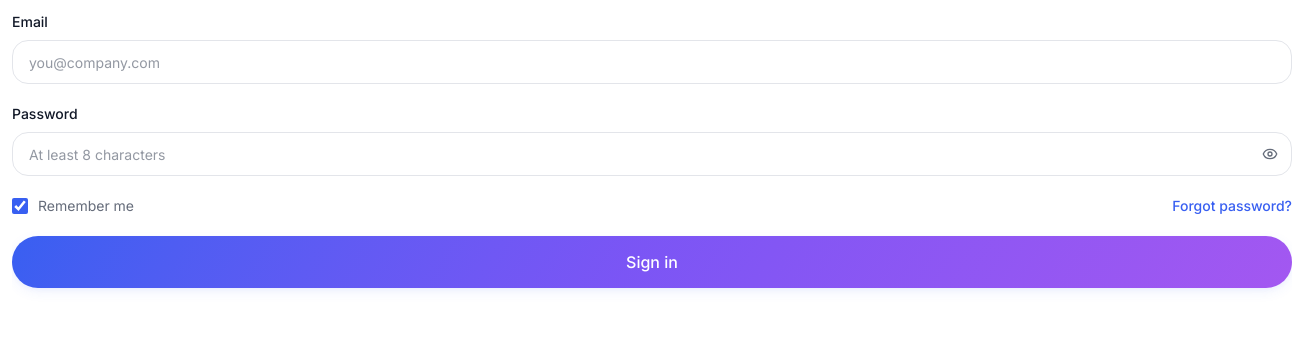
Test case: LoginForm › rejects a password below the minimum length
Type "owner@aliran.id" into the field labelled "Email". click: [652, 62]
box: [12,40,1292,84]
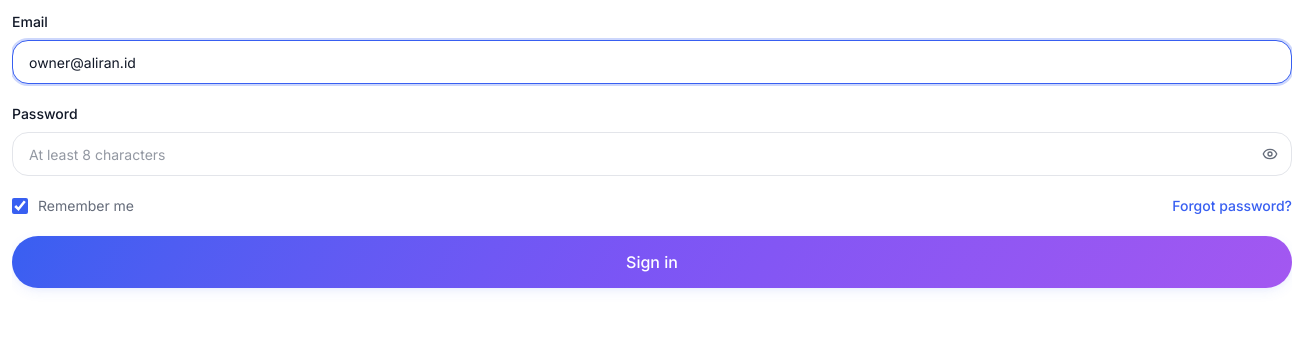
Type "short" into the password field labelled "Password". click: [652, 154]
box: [12,132,1292,176]
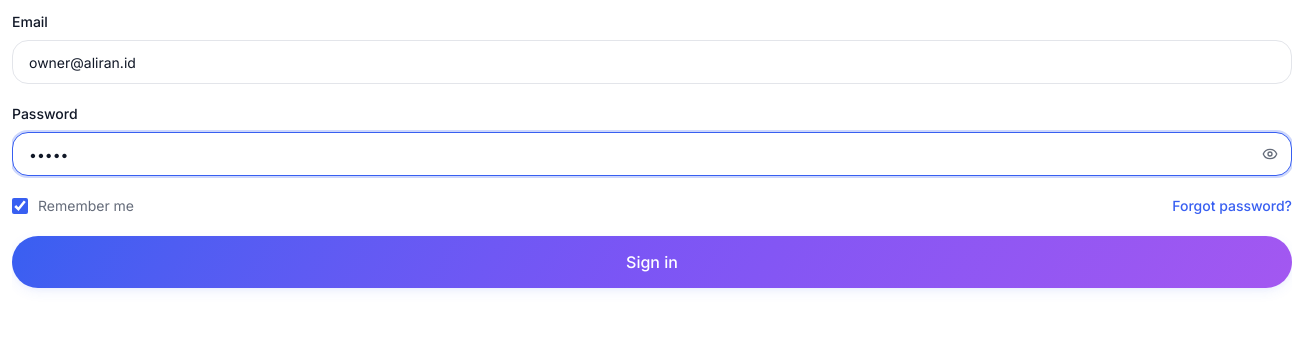
Click the button "Sign in". click: [652, 262]
box: [12,236,1292,288]
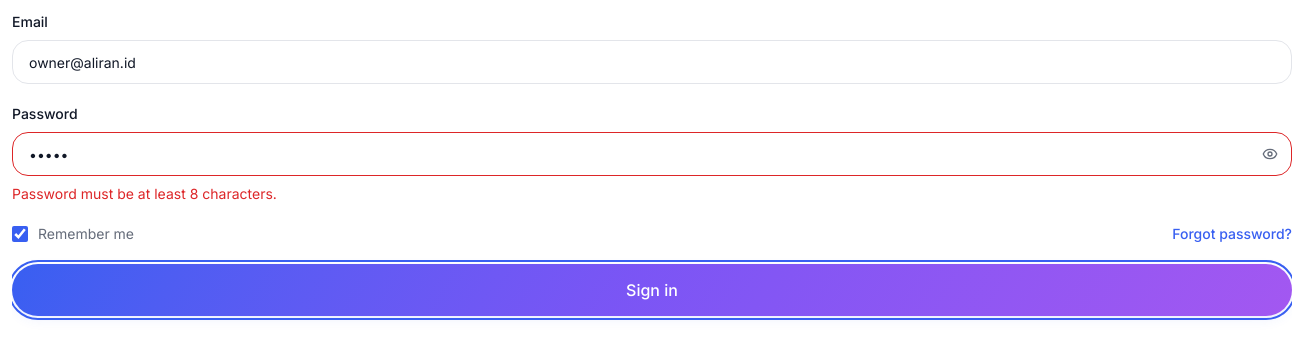
expect the text "Password must be at least 8 characters." is shown: met, box [12,185,277,202]
